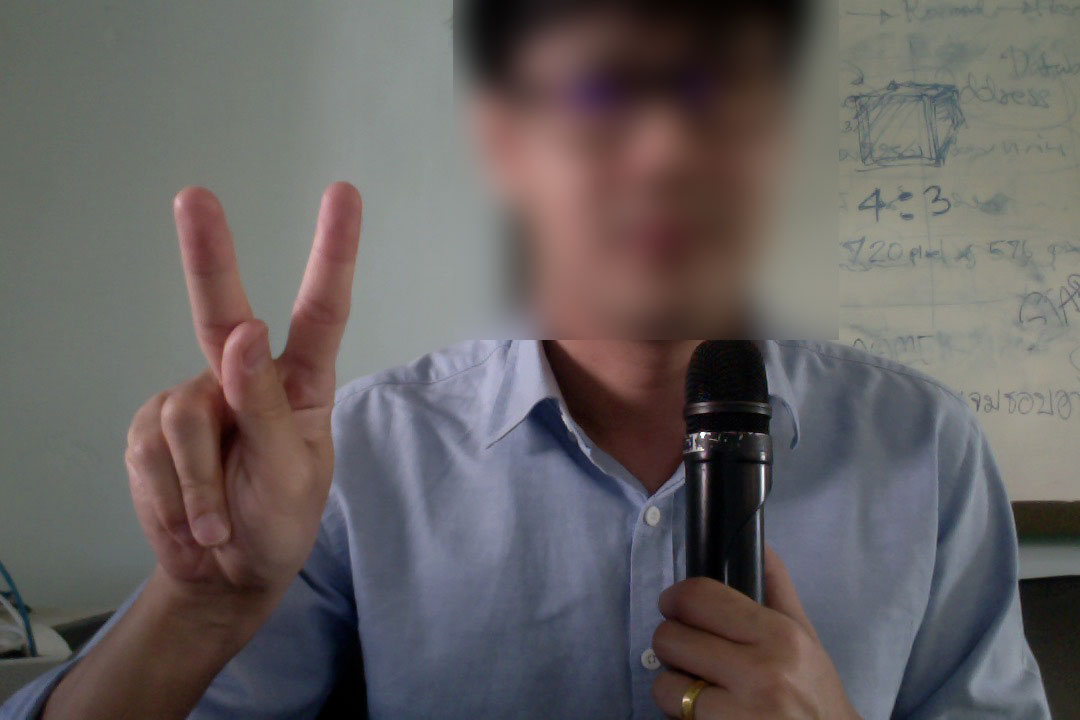ko: (119, 164, 371, 593)
